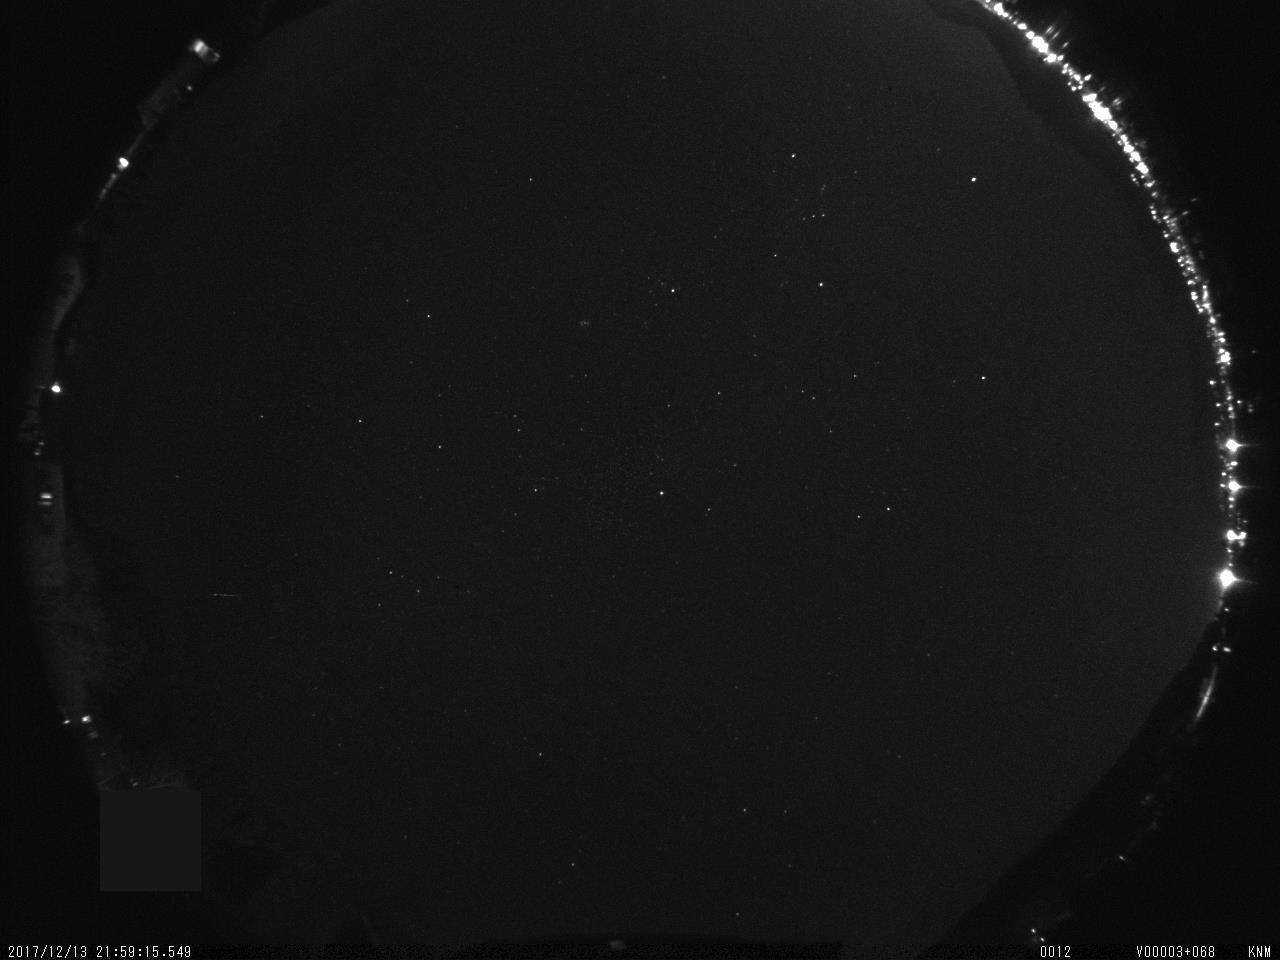Meteor: (208, 588, 242, 608)
